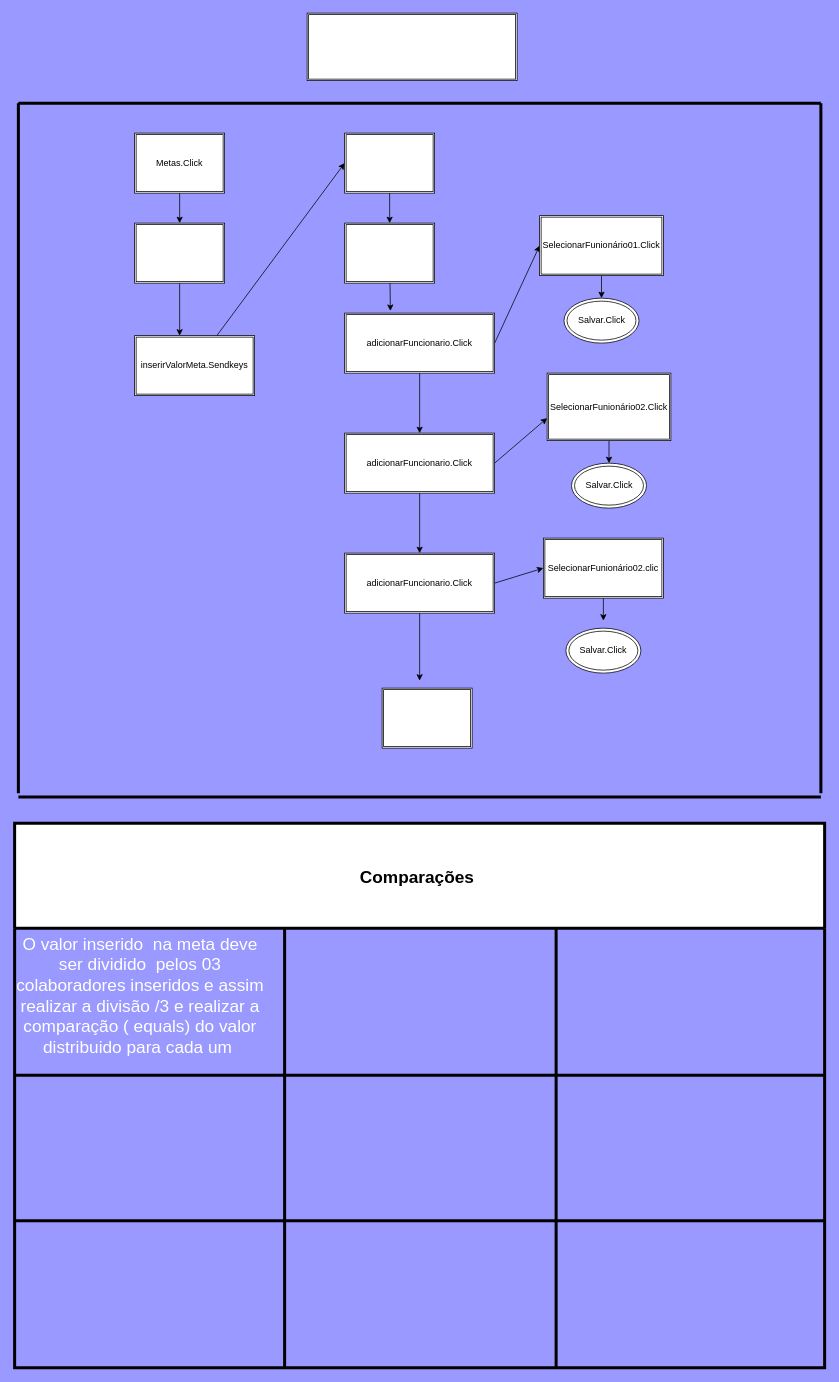
Image size: 839x1382. Some labels were removed from this diagram. The shapes that lost their labels are listed below. From the top down, each one's centre as x and y in pixels, then its label:
At (411,46): "Canário 01".
At (389,162): "iconeMetas.Click".
At (179,252): "definirMetas.Click".
At (389,252): "distribuirMetas.click".
At (426,717): "Salvar".
